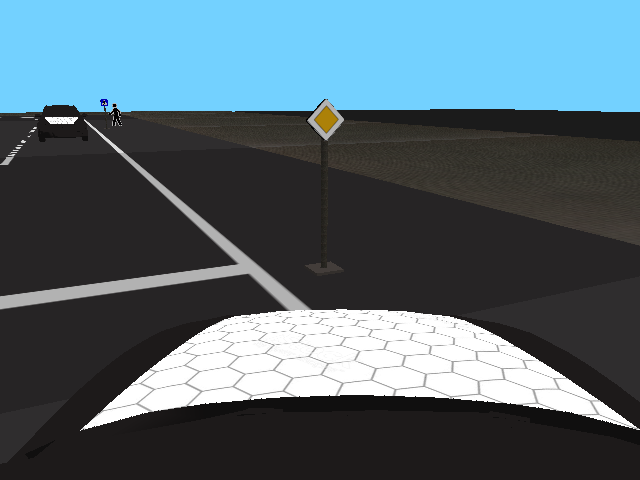priority: (307, 99, 344, 141)
